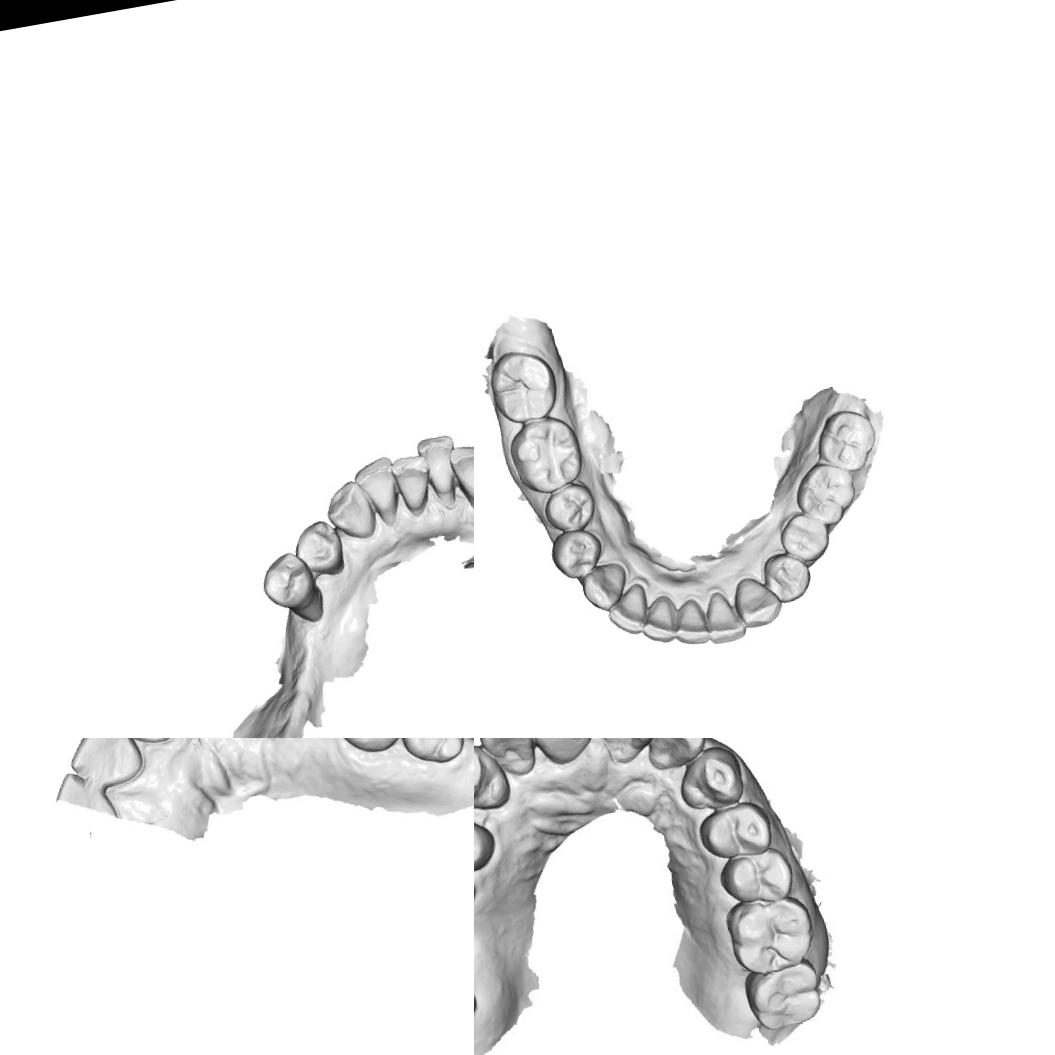canine: (672, 739, 748, 816), (319, 476, 380, 546), (729, 571, 785, 631), (474, 738, 514, 818), (578, 558, 632, 615)
incisor: (60, 738, 150, 796), (350, 453, 404, 532), (414, 432, 466, 509), (387, 450, 438, 519), (700, 587, 747, 647), (474, 738, 538, 782), (602, 582, 652, 638), (583, 738, 663, 769), (636, 592, 681, 647), (639, 738, 711, 772), (523, 738, 604, 768), (669, 596, 710, 648), (445, 439, 474, 511), (101, 738, 181, 756)
molar: (719, 890, 816, 976), (503, 410, 587, 498), (736, 956, 826, 1036), (484, 343, 562, 427), (790, 455, 862, 530), (810, 405, 881, 476), (391, 738, 474, 771), (323, 738, 409, 760)
premolar: (255, 546, 327, 630), (691, 795, 774, 867), (712, 842, 795, 911), (287, 517, 348, 582), (538, 478, 600, 536), (775, 507, 833, 565), (546, 526, 606, 582), (759, 547, 814, 605), (474, 805, 498, 881)
